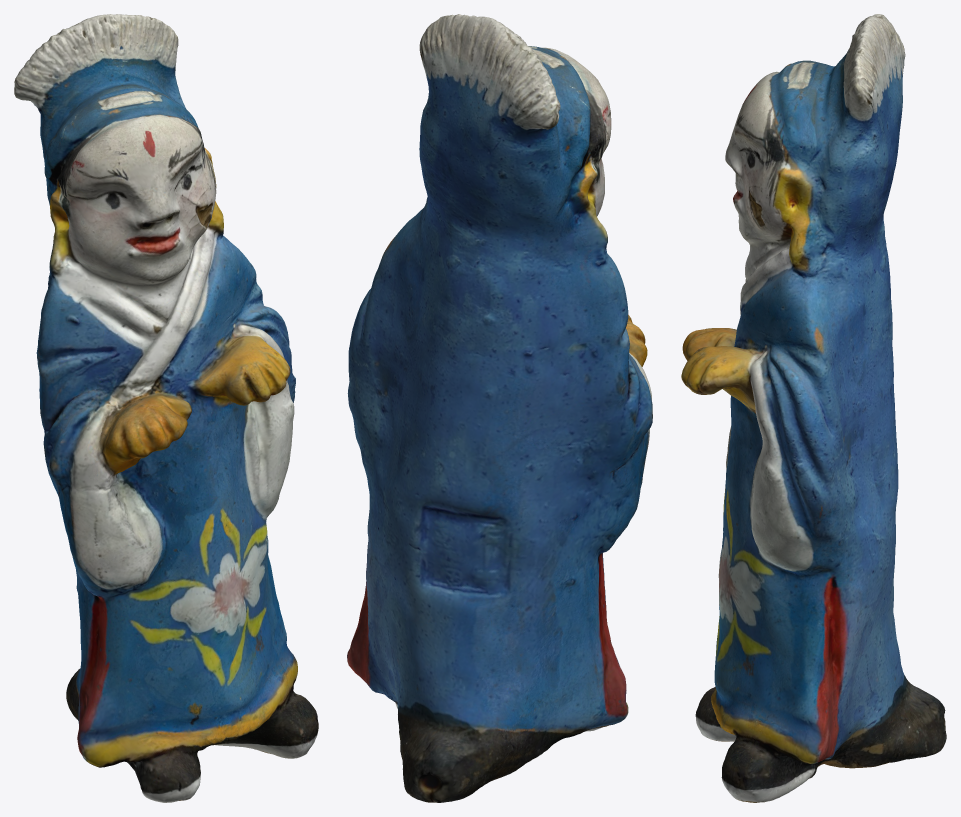
3 views of the same model, side by side, from view 1: azimuth 30°, elevation 25°; view 2: azimuth 150°, elevation 25°; view 3: azimuth 270°, elevation 25° (orthographic). The views are drawn at different scales.
Bounding box in the file's own units: 0.3857 × 1 × 0.3366.
1 material, 1 textured.
